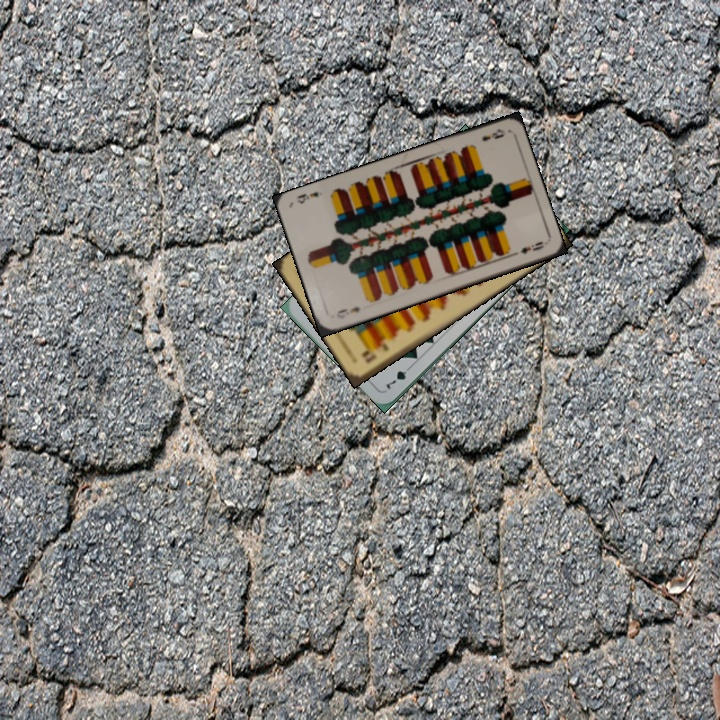E10: (359, 339, 391, 365)
E9: (332, 302, 363, 321), (478, 125, 508, 144)
G7: (382, 361, 415, 393)
